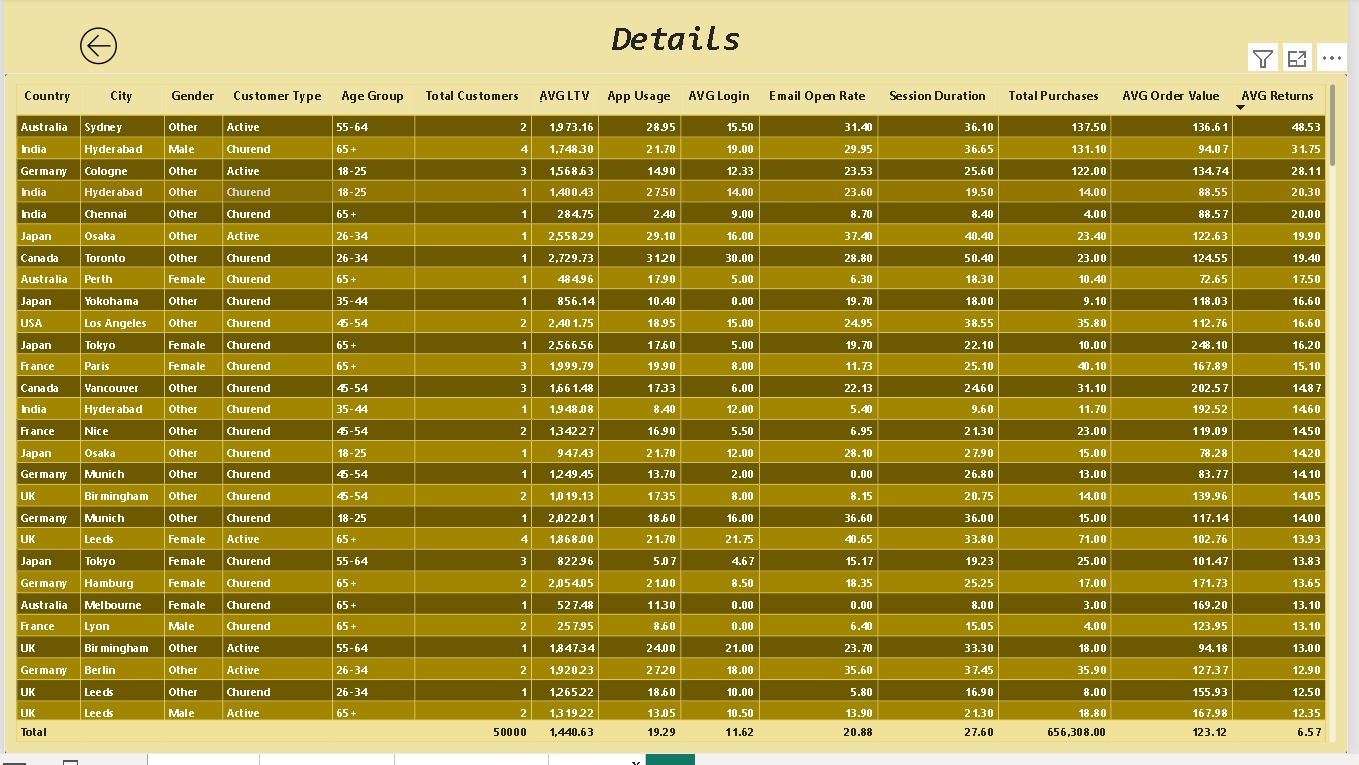

The page's visual inventory and layout, read from the dashboard file:
{"tool":"powerbi","page":{"name":"Details","canvas":[1920,1080],"ordinal":3},"visuals":[{"type":"tableEx","fields":{"Values":["Data.Country","Data.City","Data.Gender","Data.Customer Type","Data.Age Group","Customer Overview.Total Customers","Customer Overview.ِAVG LTV","Engagement & Behavior.App Usage","Engagement & Behavior.AVG Login","Engagement & Behavior.Email Open Rate","Engagement & Behavior.Session Duration","Customer Value.Total Purchases"]},"box":[0,107.1,1919.7,973.2],"z":0},{"type":"textbox","box":[851.8,30.4,217.9,76.8],"z":1},{"type":"actionButton","box":[71.4,30.4,126.8,76.8],"z":2}]}

Visuals, with their boxes in screenshot pixels (x1, y1, x2, y2), scaled from the page's 1920x1080 canvas onto the 1359x765 screenshot:
tableEx - Data.Country x Data.City: {"left": 0, "top": 76, "right": 1358, "bottom": 764}
textbox: {"left": 603, "top": 22, "right": 757, "bottom": 76}
actionButton: {"left": 51, "top": 22, "right": 140, "bottom": 76}
